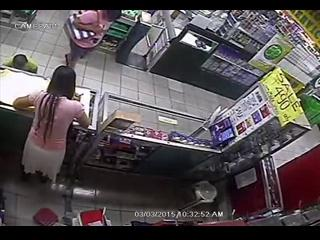Normal: (12, 65, 92, 192)
